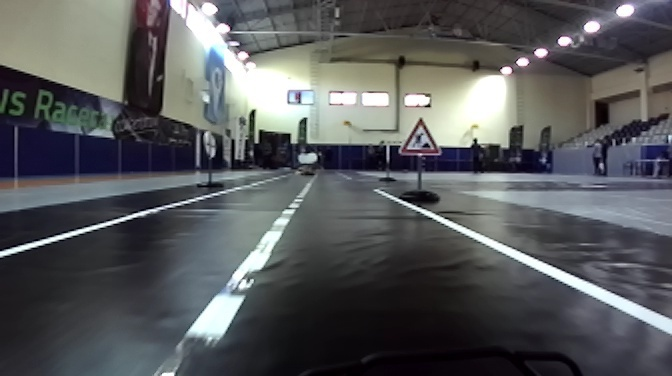yol_yapimi: (396, 115, 442, 156)
